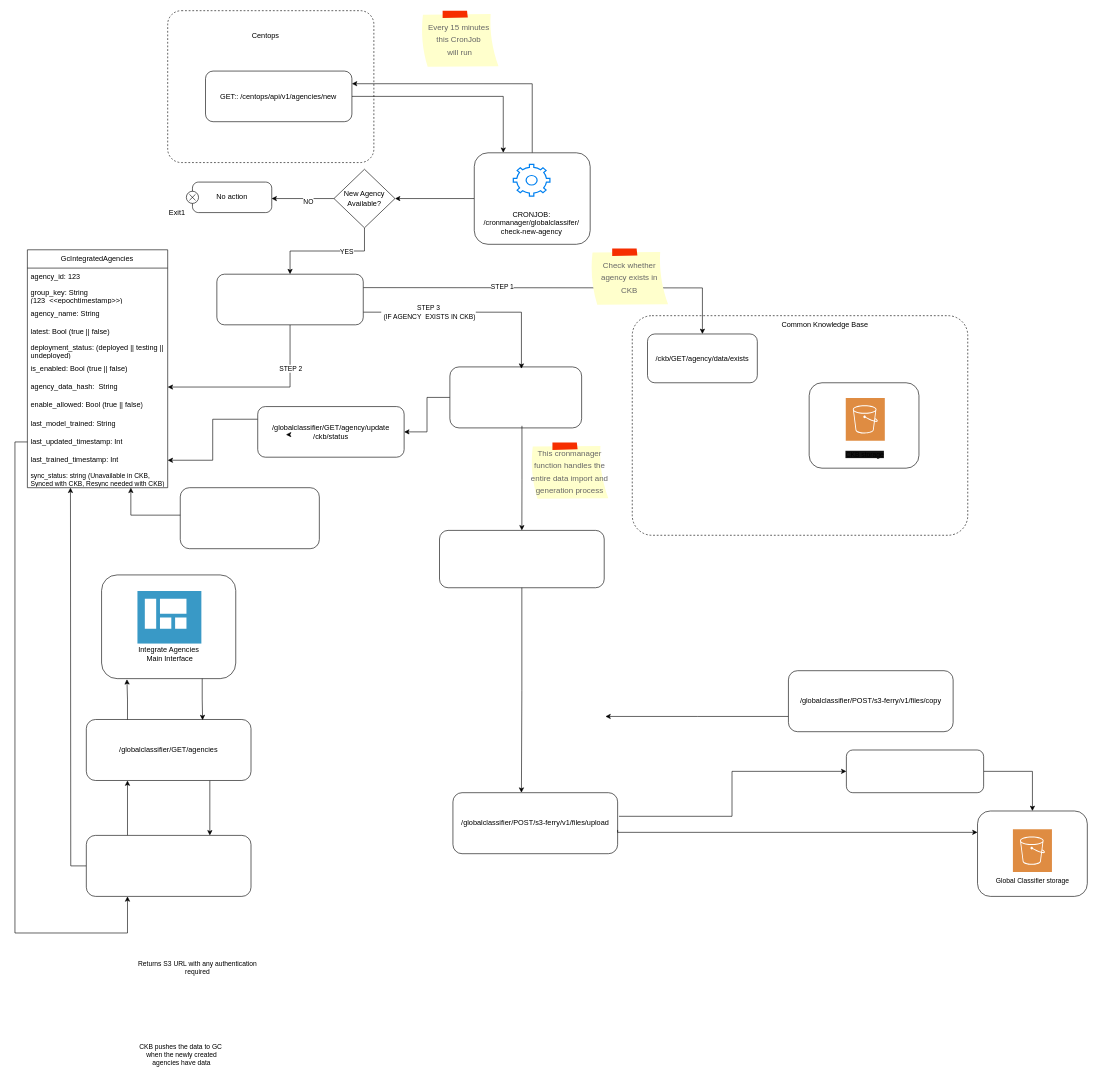
This 1098x1078 diagram has some shape labels left out. Each missing label, with the centre of its shape:
/dataset-generator/ POST/cronmanager /dataset/generate: [521,559]
/globalclassifier/POST/agency/integrate: [289,299]
/globalclassifier/POST/cronmanager /agency/data/import: [515,397]
/globalclassifier/POST/s3-ferry/v1/files/delete: [915,771]
/globalclassifier/resql/get-integrated-agency: [168,865]
/globalclassifier/resql/update-data-import-complete: [249,518]
